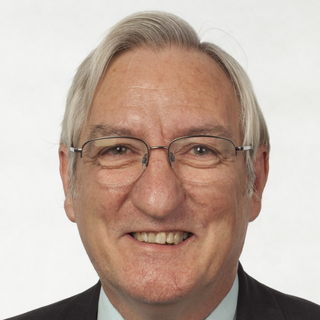eye: (177, 140, 223, 163), (96, 140, 141, 163)
